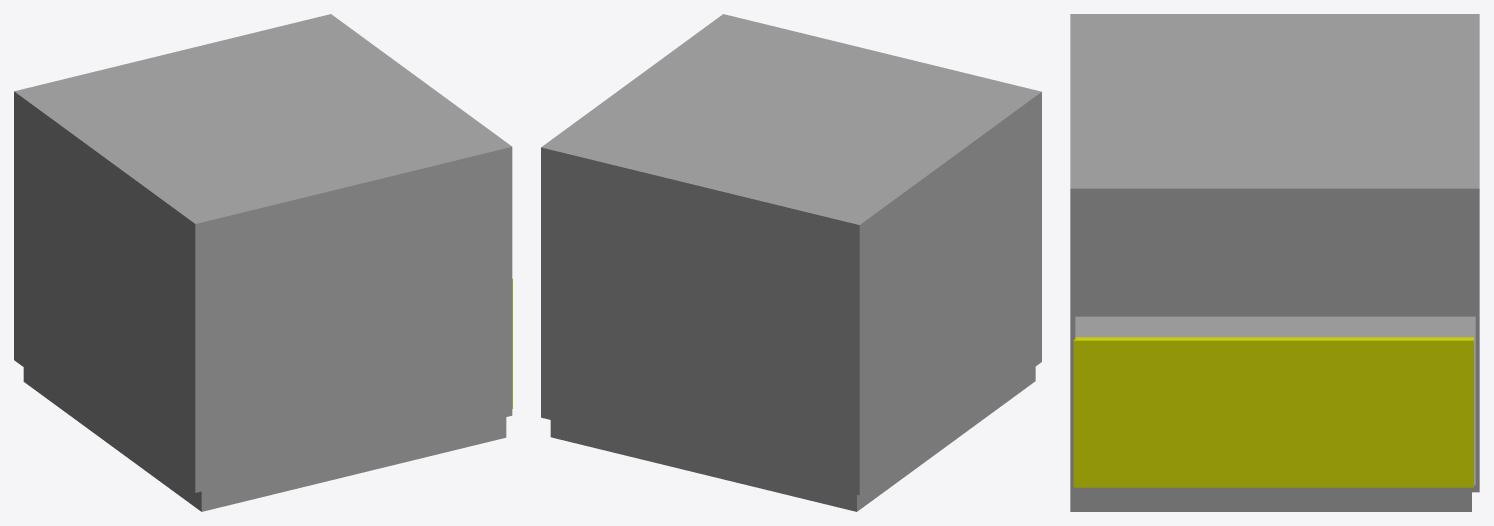
File: CabinetDouble.fbx
The picture shows the model from 3 angles, left to right: view 1: azimuth 30°, elevation 25°; view 2: azimuth 150°, elevation 25°; view 3: azimuth 270°, elevation 25°; orthographic projection. The views are drawn at different scales.
Parts seen in each view (by area): view 1: Test_Cabinet_Lower_Right1_pCube202; view 2: Test_Cabinet_Lower_Right1_pCube202; view 3: Test_Cabinet_Lower_Right1_pCube202.
Boxes of the visible parts, bbox=[...] form: Test_Cabinet_Lower_Right1_pCube202: bbox=[14, 14, 512, 511]; Test_Cabinet_Lower_Right1_pCube202: bbox=[541, 14, 1041, 511]; Test_Cabinet_Lower_Right1_pCube202: bbox=[1070, 14, 1479, 511].
Size of the model in its own units: 3.06 by 2.66 by 3.02.
